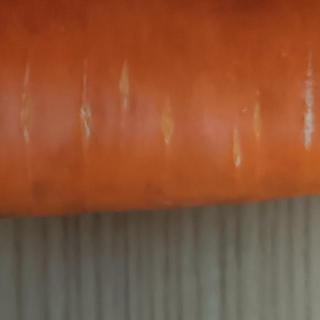carrot: (0, 0, 320, 234)
